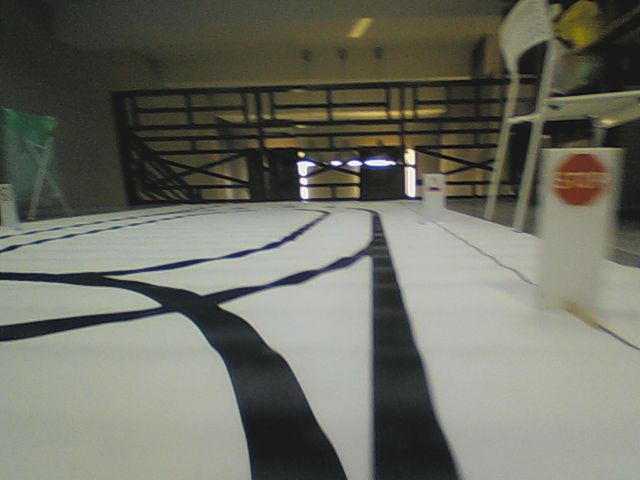Stop: (552, 152, 610, 207)
